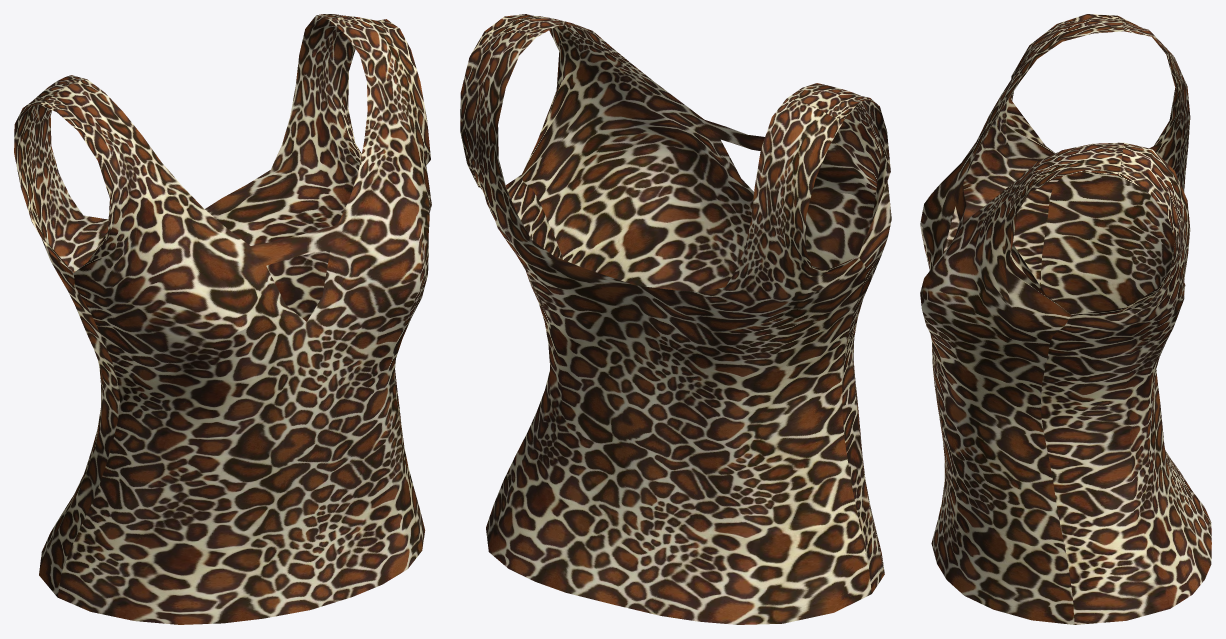
File: toigo-keyhole-tank-top.glb
3 renders of one model, left to right at view 1: azimuth 30°, elevation 25°; view 2: azimuth 150°, elevation 25°; view 3: azimuth 270°, elevation 25°, orthographic. The views are drawn at different scales.
Parts seen in each view (by area): view 1: keyhole tank top; view 2: keyhole tank top; view 3: keyhole tank top.
Boxes of the visible parts, x1=… form: keyhole tank top: x1=14, y1=14, x2=431, y2=624; keyhole tank top: x1=460, y1=14, x2=891, y2=624; keyhole tank top: x1=920, y1=14, x2=1211, y2=624.
Size of the model in its own units: 34.42 by 45 by 26.03.
1 material, 1 textured.
